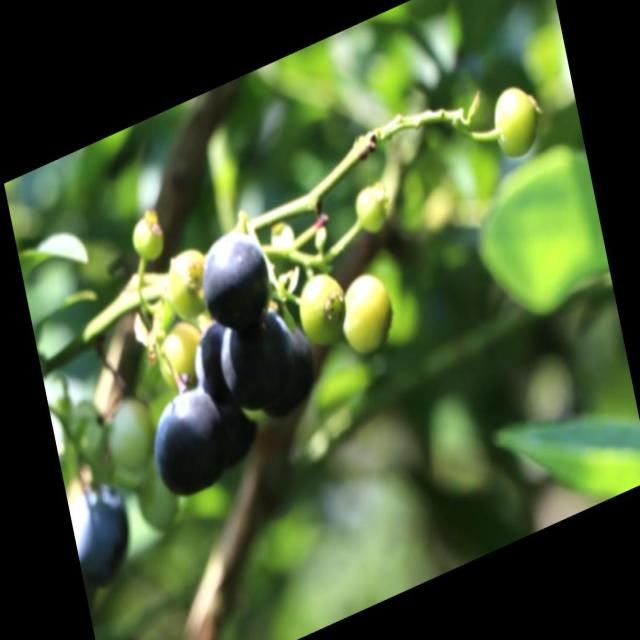blueberry: (143, 377, 230, 504), (192, 218, 275, 338), (217, 303, 294, 417), (67, 475, 138, 594)
blueberry-unripe: (335, 264, 399, 360), (292, 261, 352, 357), (488, 77, 544, 165), (152, 314, 208, 394), (160, 242, 211, 322), (349, 176, 392, 241)
